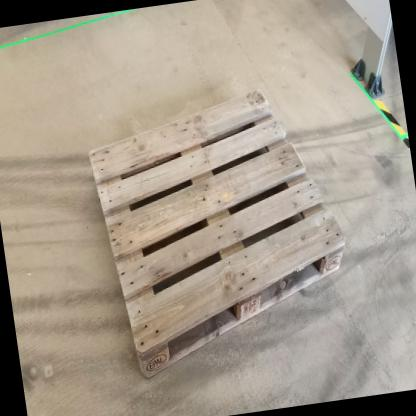BoxFace: (84, 79, 349, 385)
